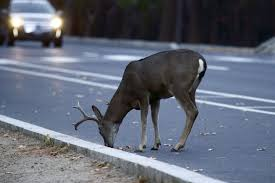deer: (73, 47, 207, 154)
